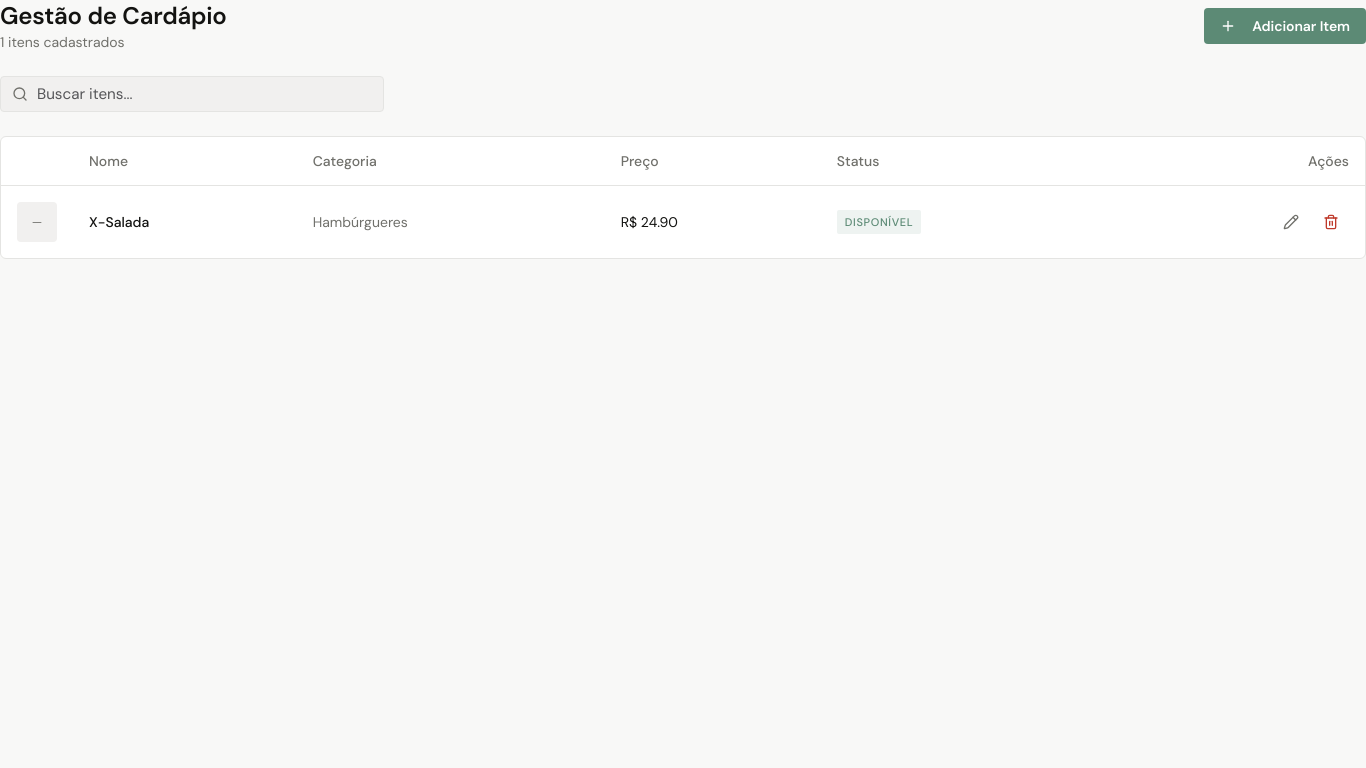
Scenario: menu management API cutover › creates an item through the camelCase API contract and renders the server response
The width and height of the screenshot is (1366, 768).
Check: the text "X-Salada" is shown, box [89,212,149,232]
Click the button "Adicionar Item" at (1285, 26), box [1204,8,1365,44]
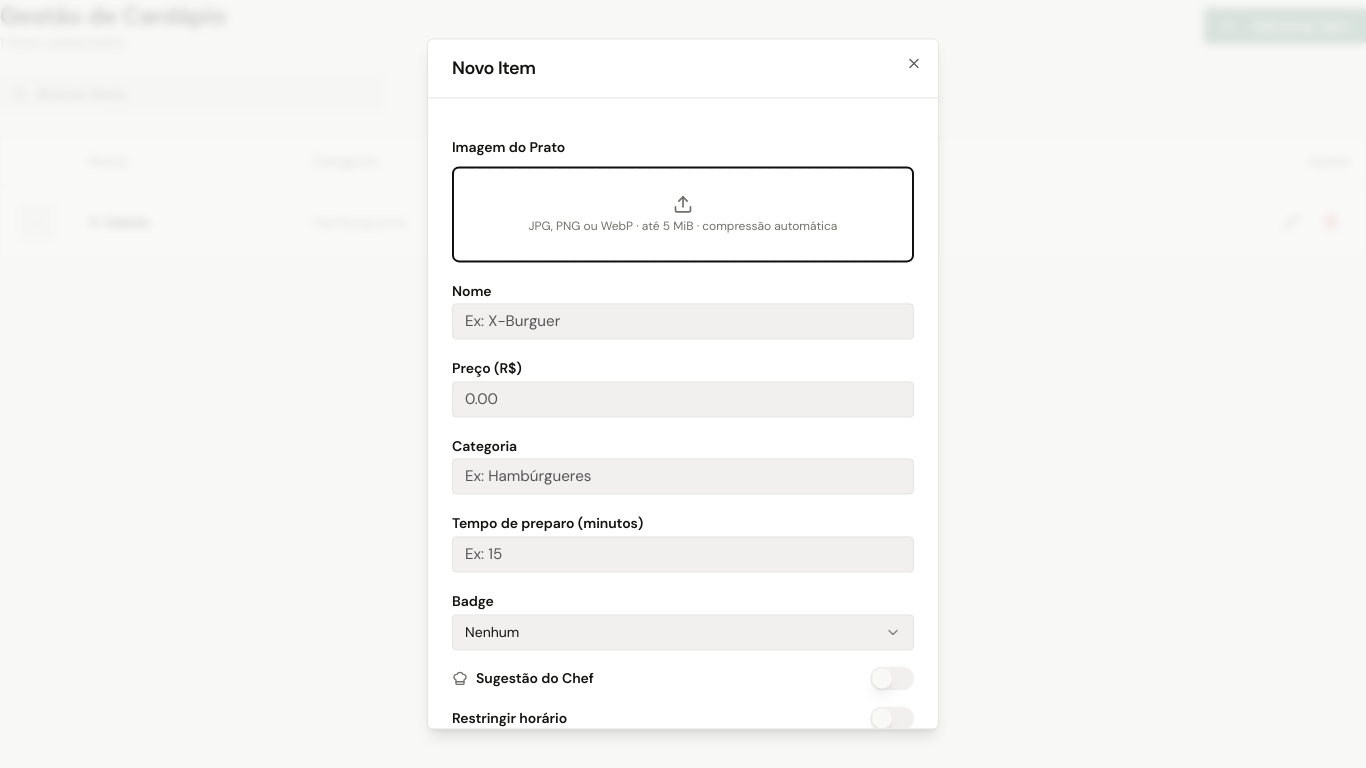
Type "X-Bacon" into the field with placeholder "Ex: X-Burguer" at (683, 322), box [452,304,914,340]
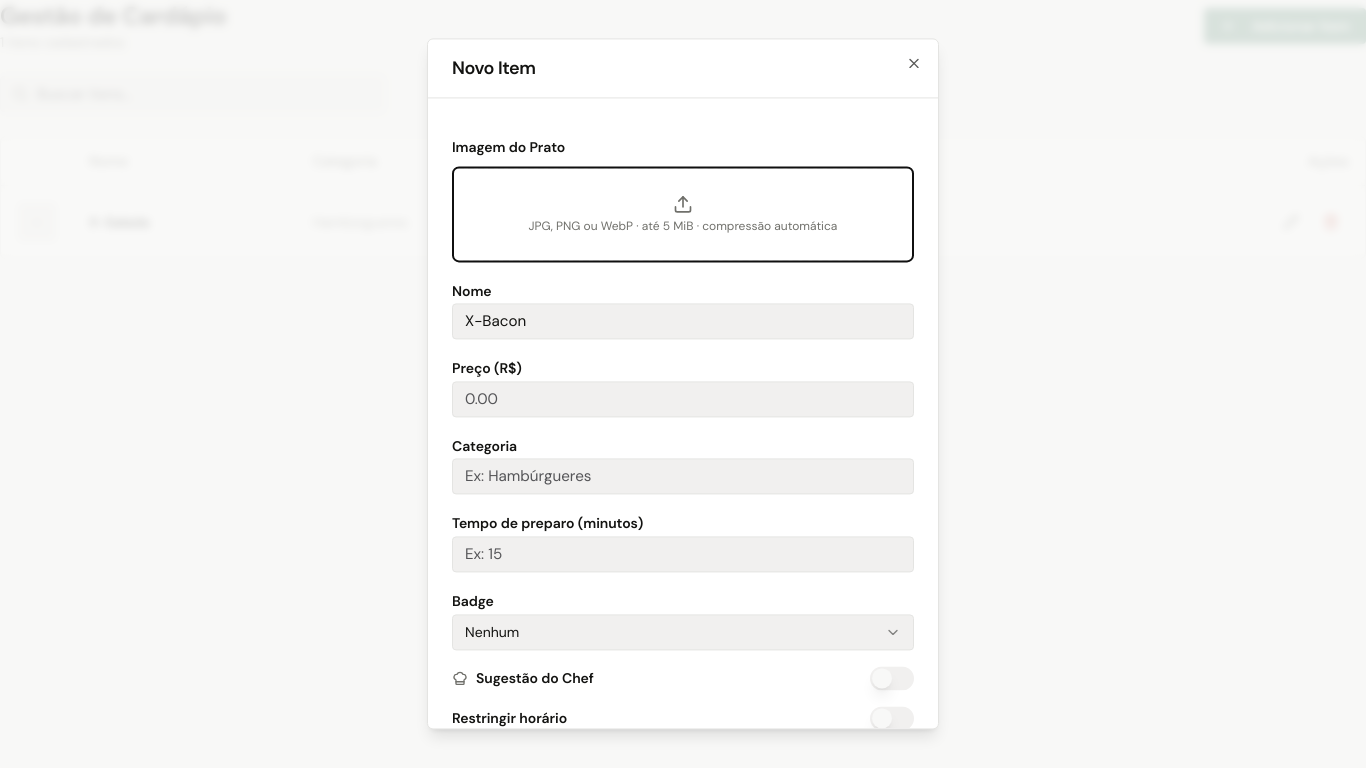
Type "31.50" into the number field with placeholder "0.00" at (683, 399), box [452,381,914,417]
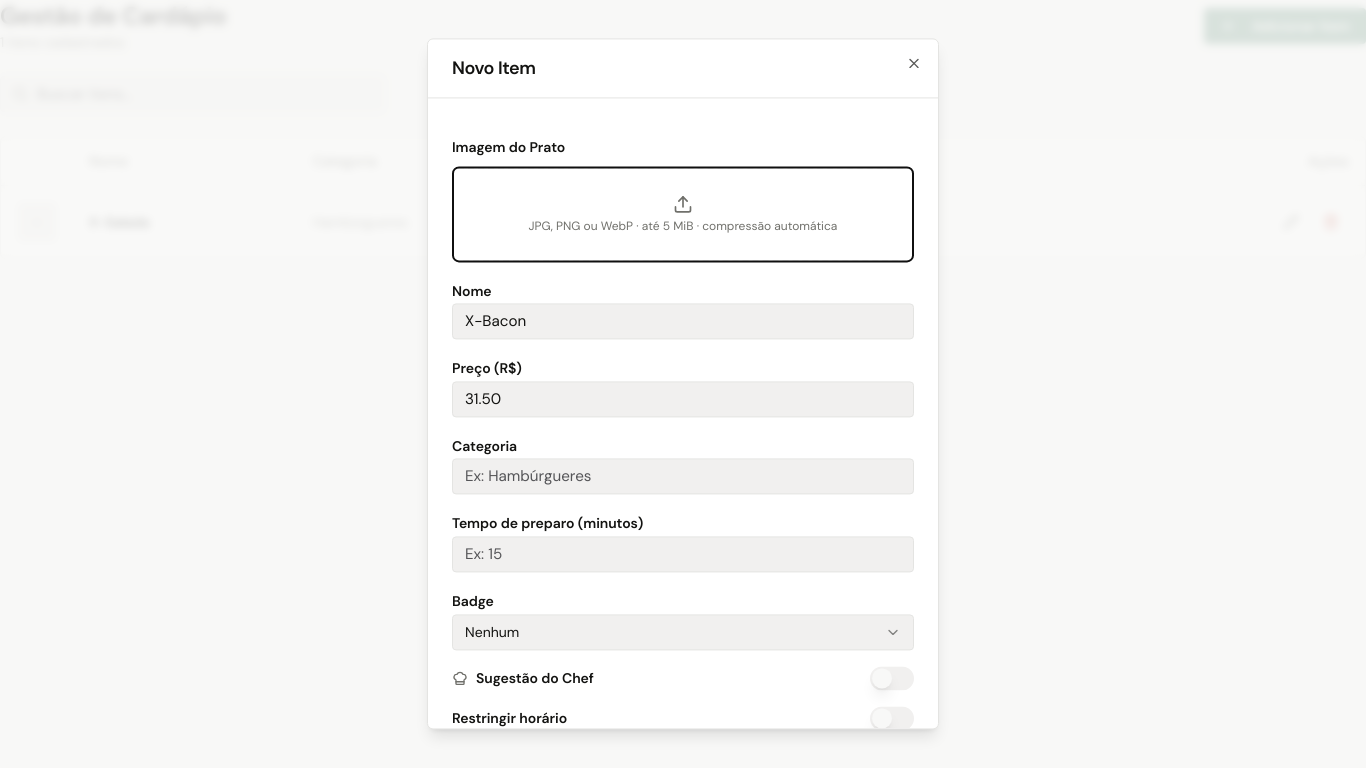
Type "Especiais" into the field with placeholder "Ex: Hambúrgueres" at (683, 477), box [452,459,914,495]
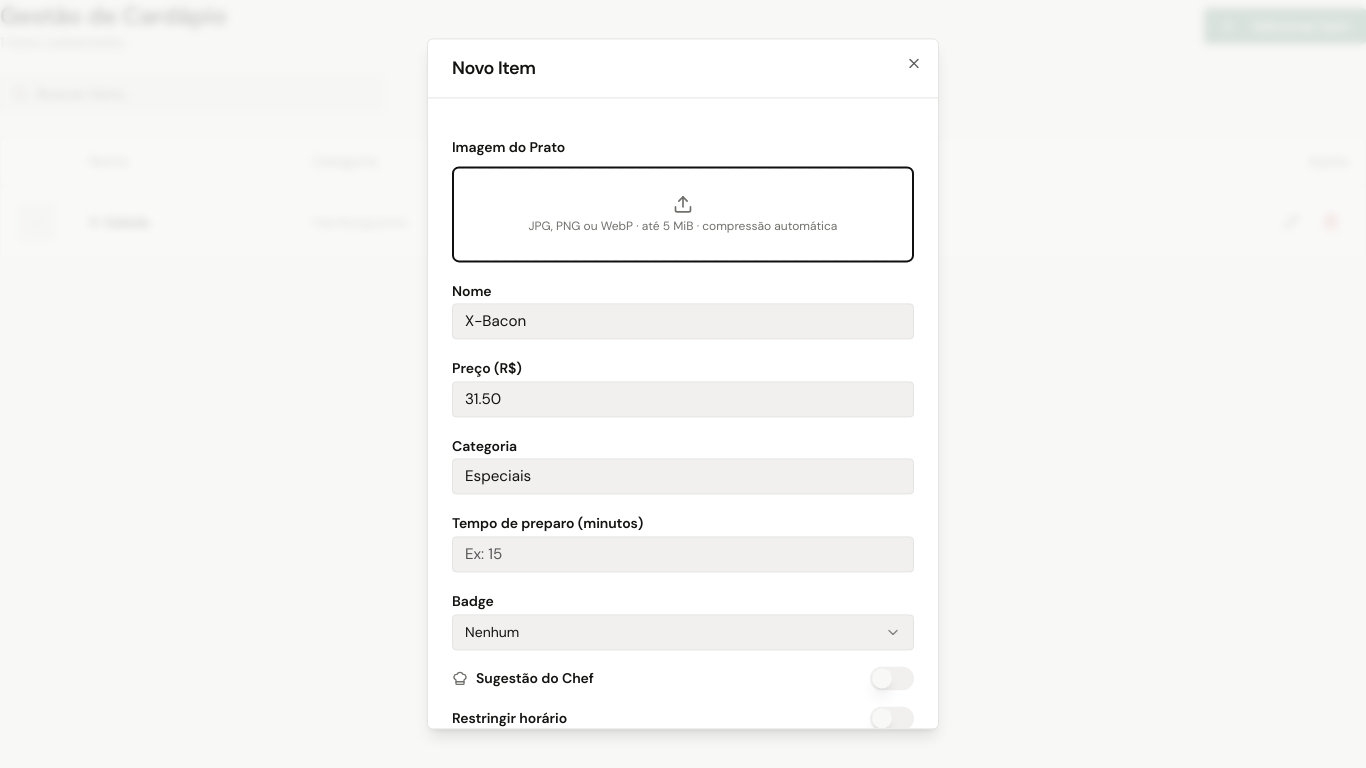
Type "18" into the number field with placeholder "Ex: 15" at (683, 554), box [452,536,914,572]
(page scrolled)
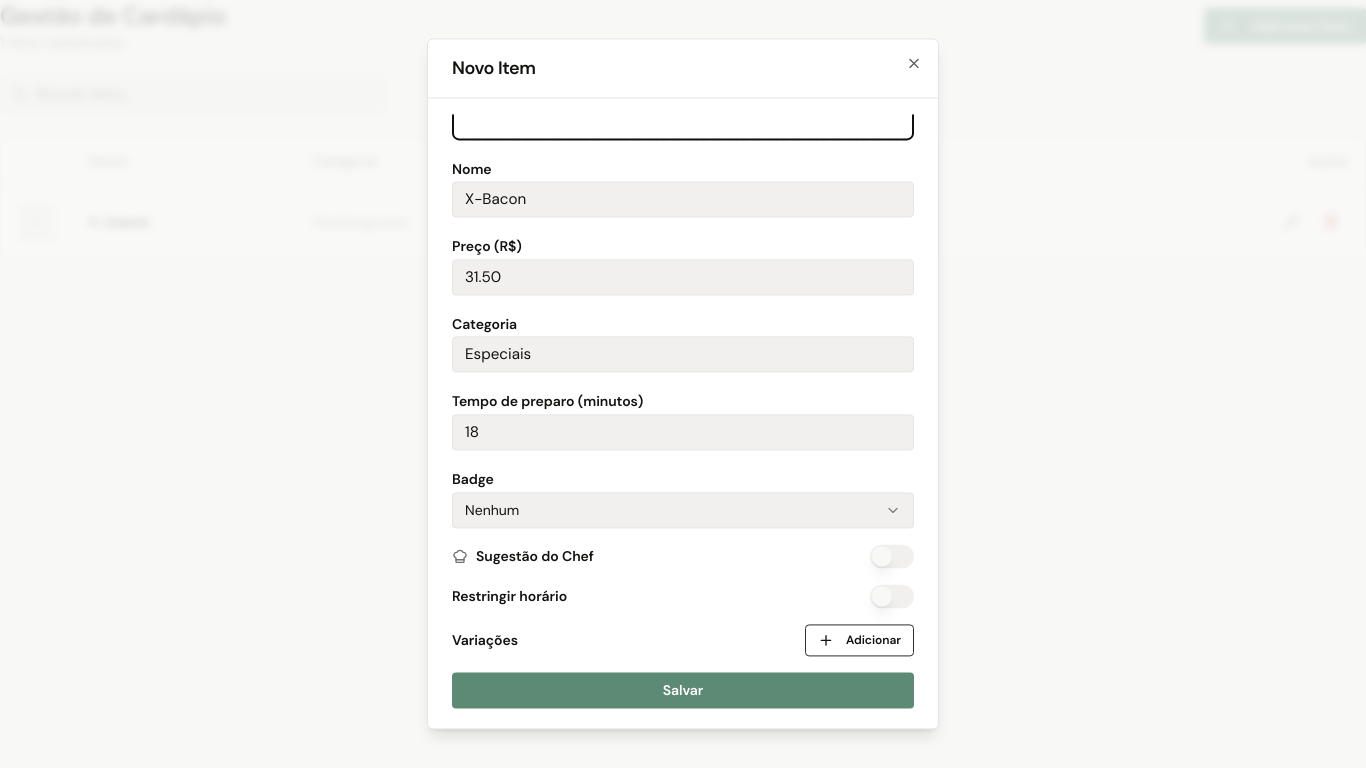
Click the button "Salvar" at (683, 690), box [452,672,914,708]
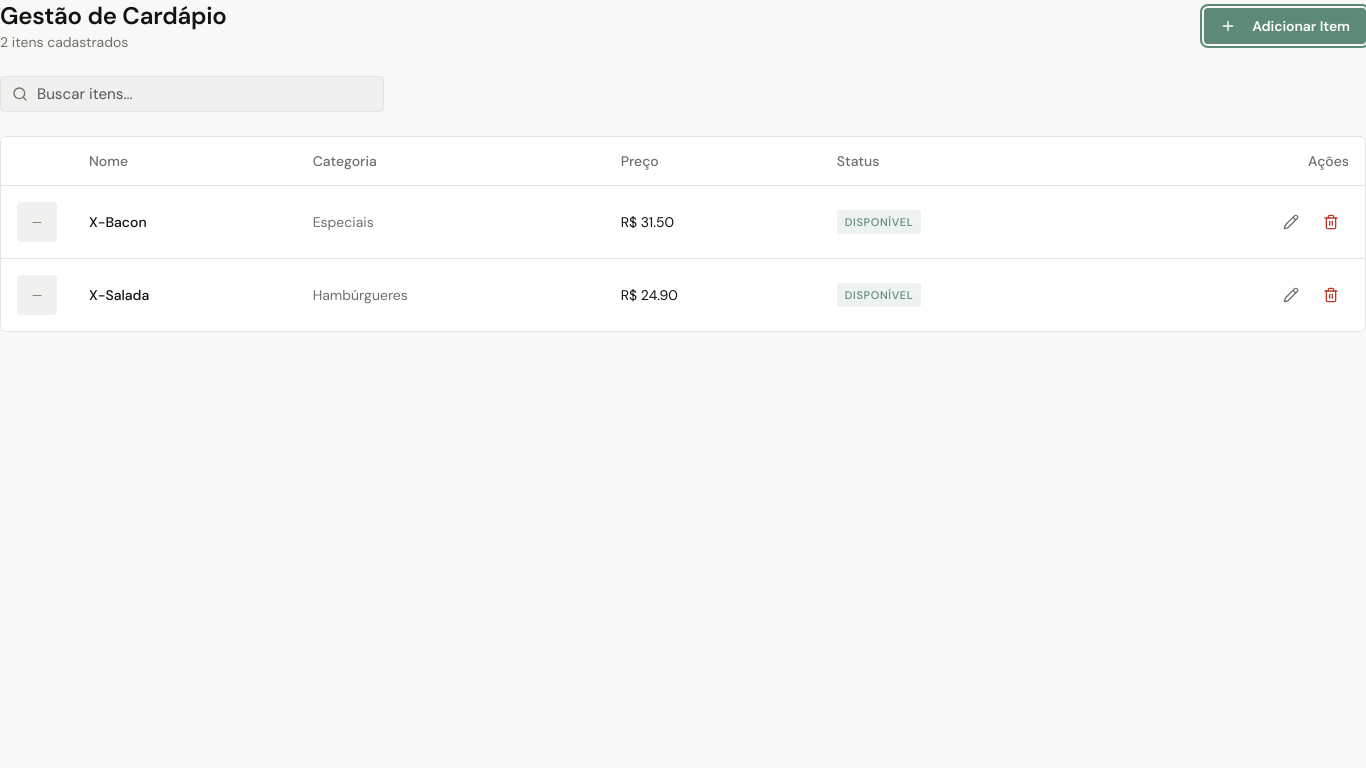
Check: the text "X-Bacon" is shown, box [89,212,147,232]
